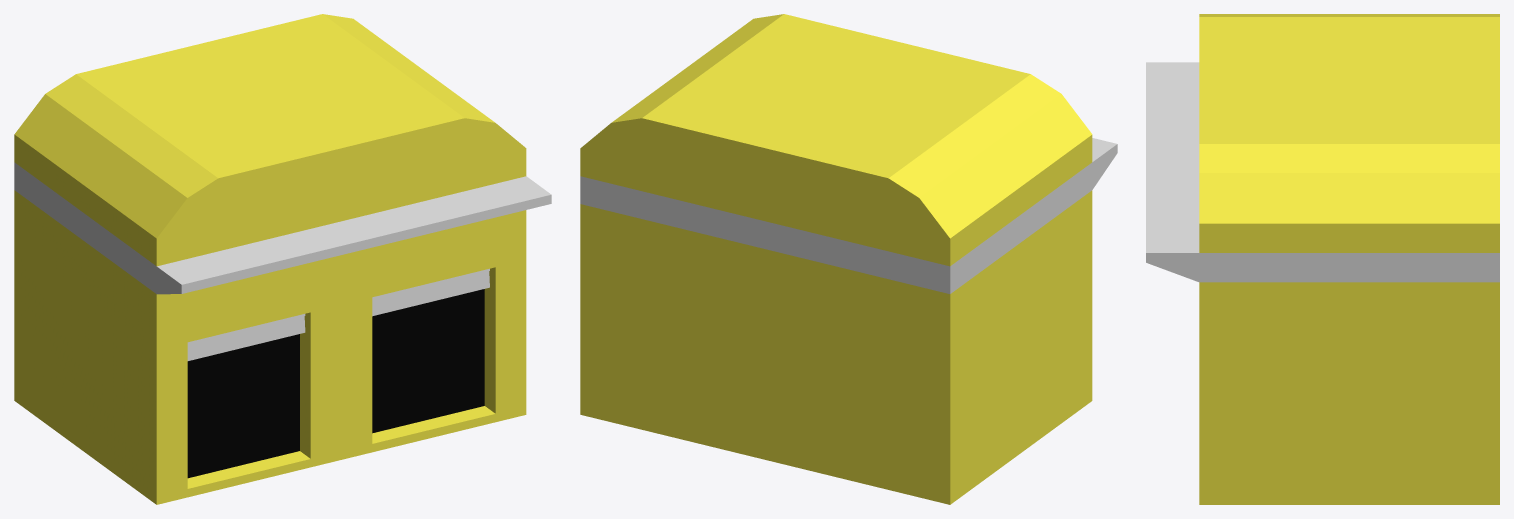
File: Store_open_Yellow.fbx
3 renders of one model, left to right at view 1: azimuth 30°, elevation 25°; view 2: azimuth 150°, elevation 25°; view 3: azimuth 270°, elevation 25°, orthographic. The views are drawn at different scales.
Visible parts, largest first — view 1: StoreOpenDoor.002; view 2: StoreOpenDoor.002; view 3: StoreOpenDoor.002.
Part boxes in pixels (x1,y1,x2,y2): StoreOpenDoor.002: [14, 14, 551, 504]; StoreOpenDoor.002: [580, 14, 1117, 504]; StoreOpenDoor.002: [1146, 14, 1499, 504].
Size of the model in its own units: 300 by 242 by 235.
